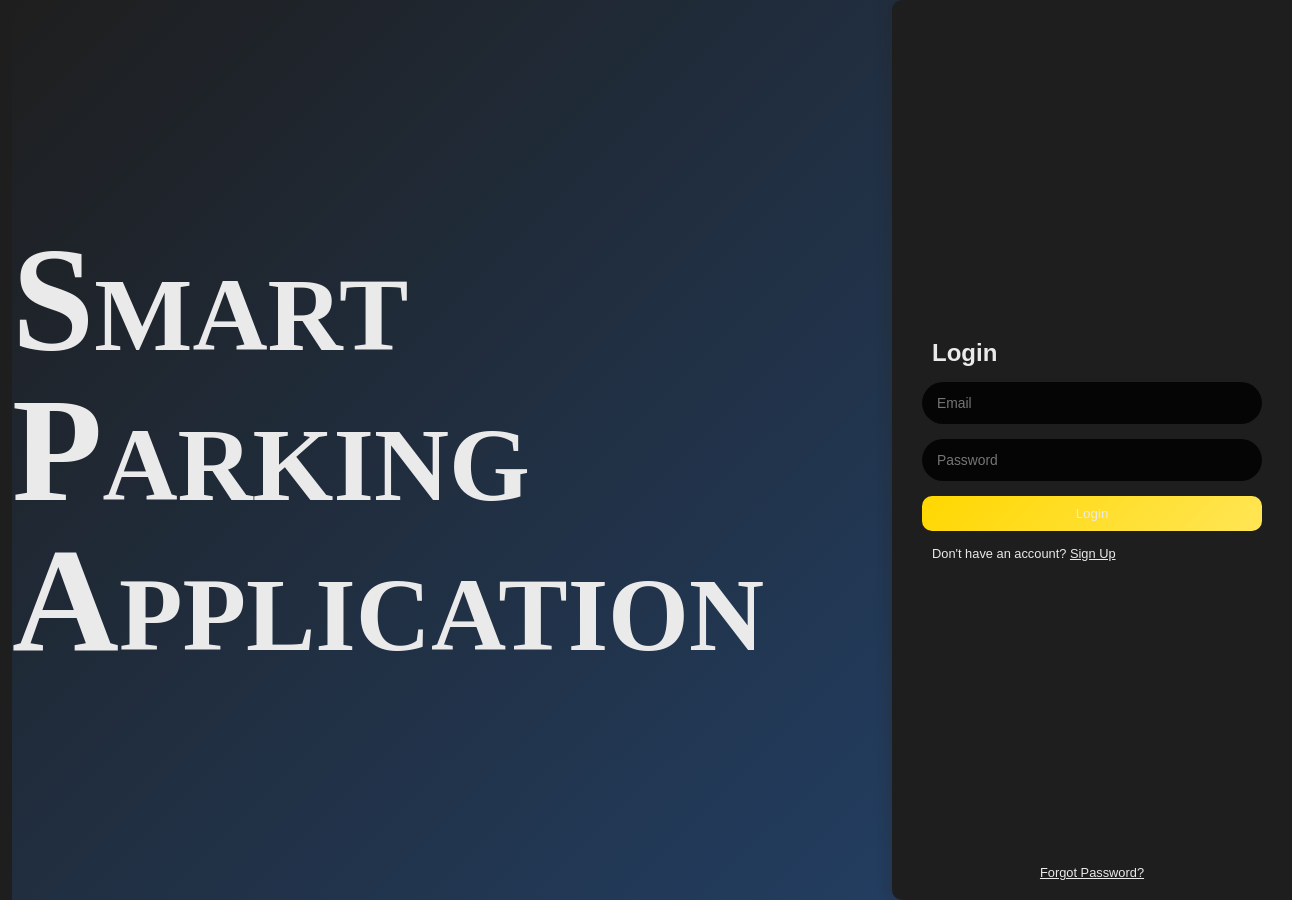
it: Login Component › shows error for empty fields
Click the button "Login" at (1092, 514), box [922, 496, 1262, 531]
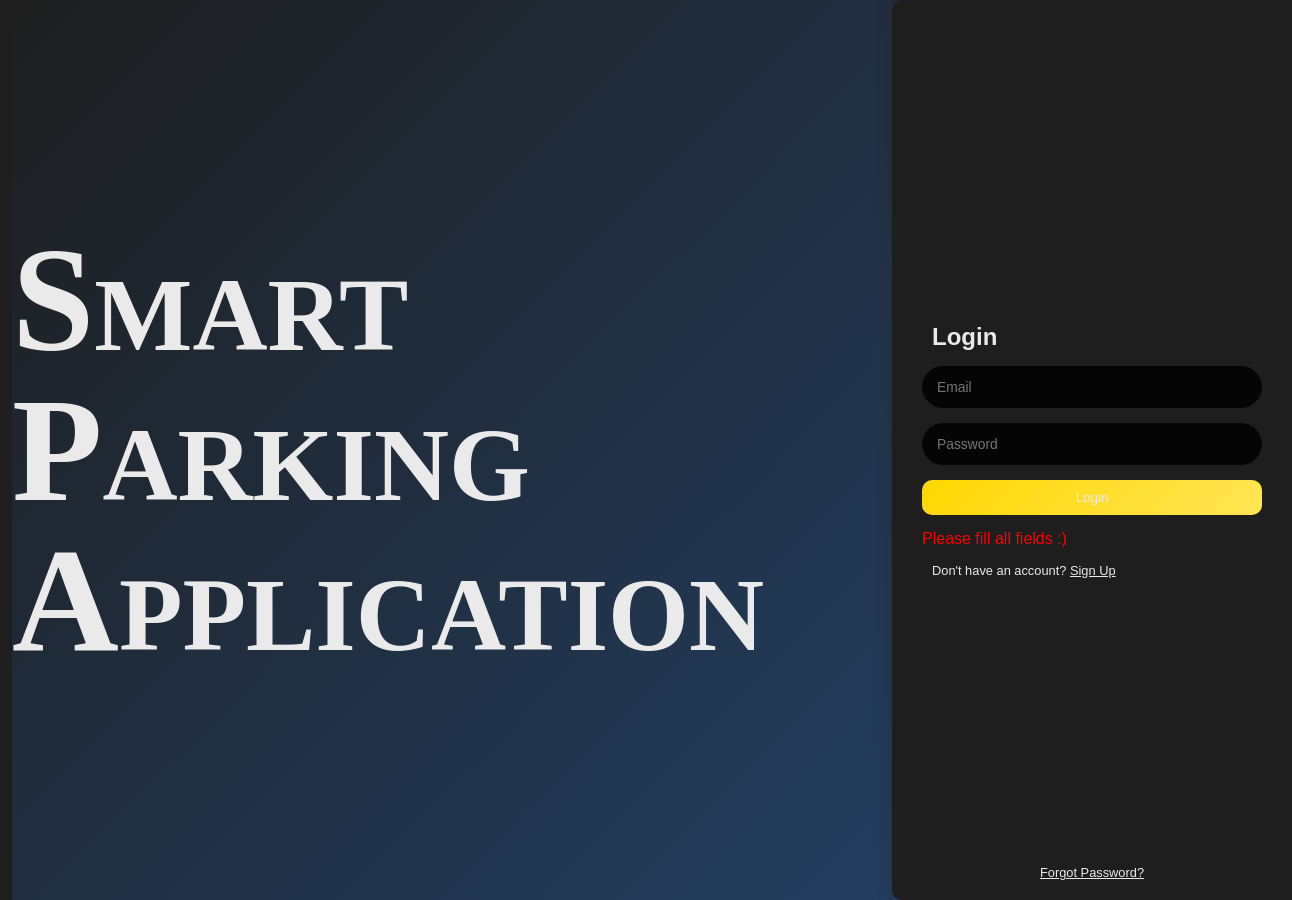
Now the text "Please fill all fields :)" is shown, box [922, 530, 1067, 546]
